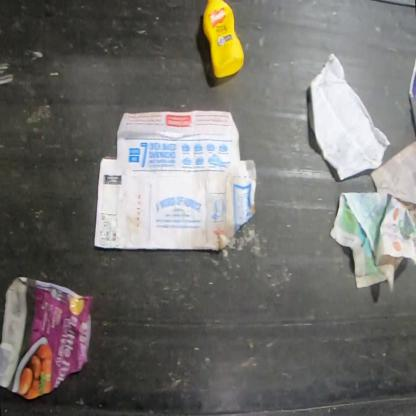cardboard: (94, 112, 256, 252)
rigid_plastic: (203, 1, 244, 79)
soft_plastic: (0, 277, 92, 401)
